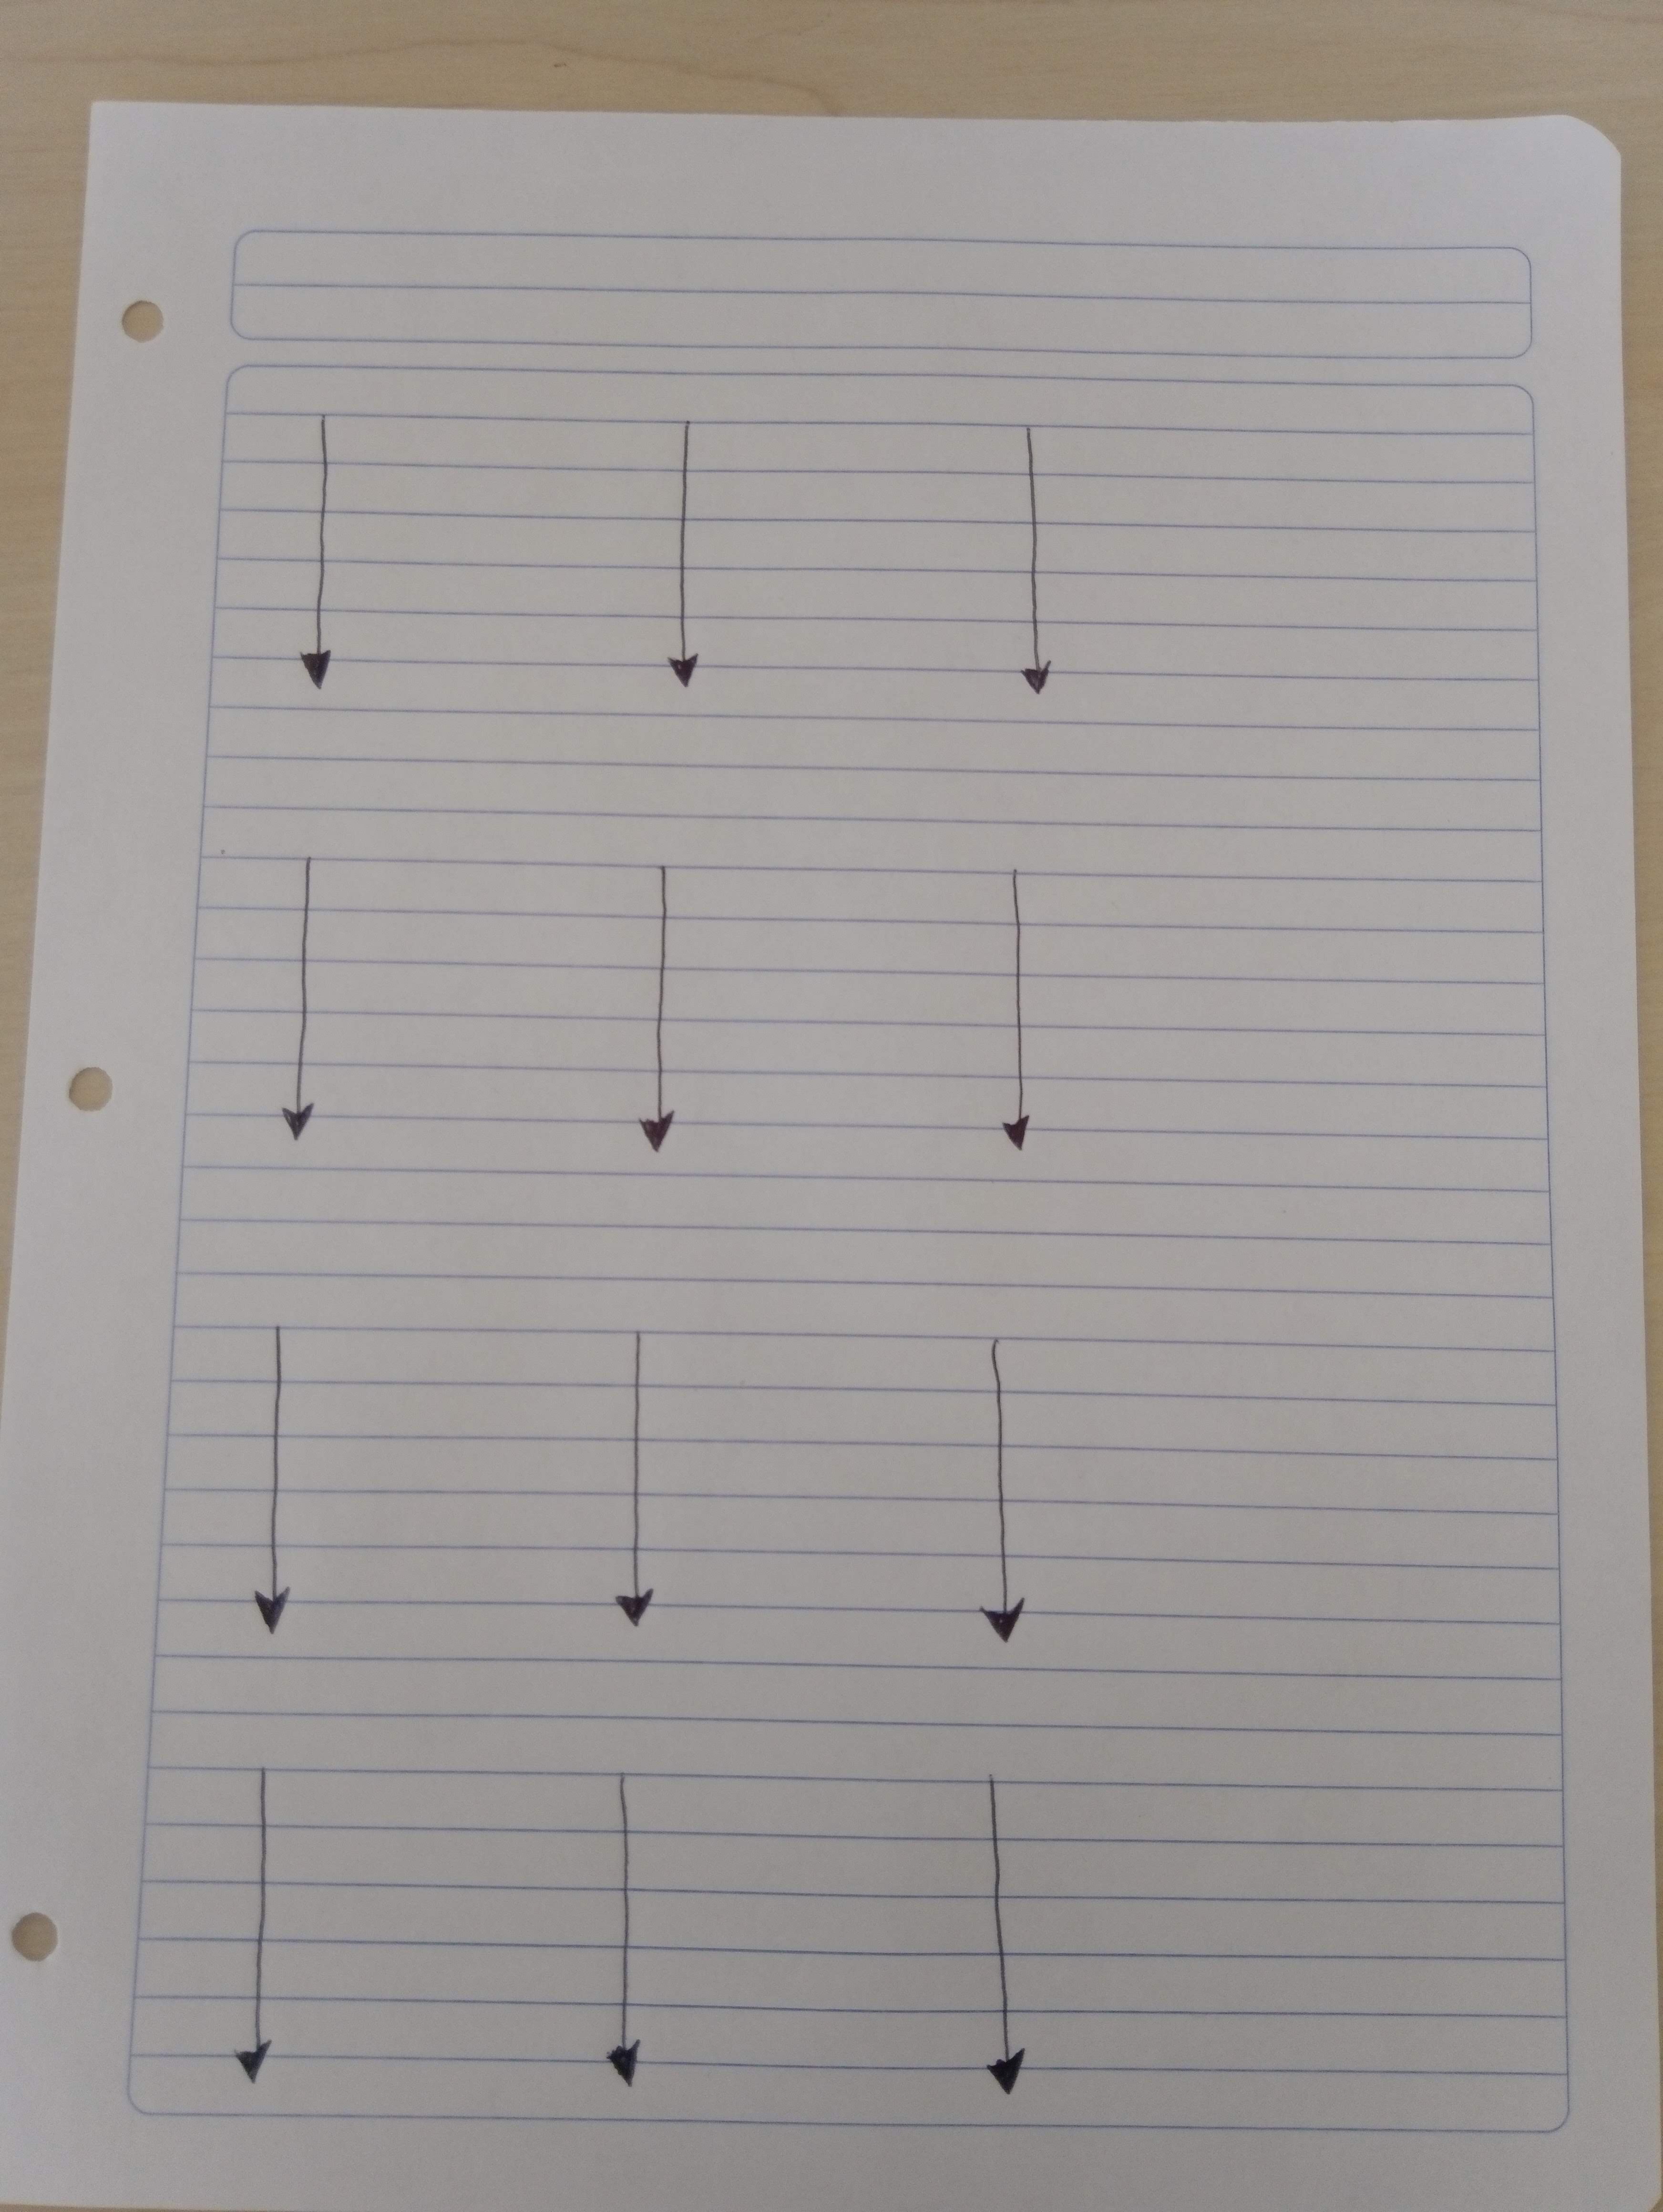arrow_line_down: (936, 1774, 1074, 2100), (950, 1332, 1050, 1664), (599, 1330, 693, 1645), (590, 1765, 673, 2118), (236, 1304, 320, 1641), (620, 861, 709, 1158), (1010, 421, 1097, 718), (983, 871, 1074, 1138), (657, 416, 734, 688), (269, 861, 339, 1135), (236, 1762, 293, 2088), (283, 409, 346, 695)
